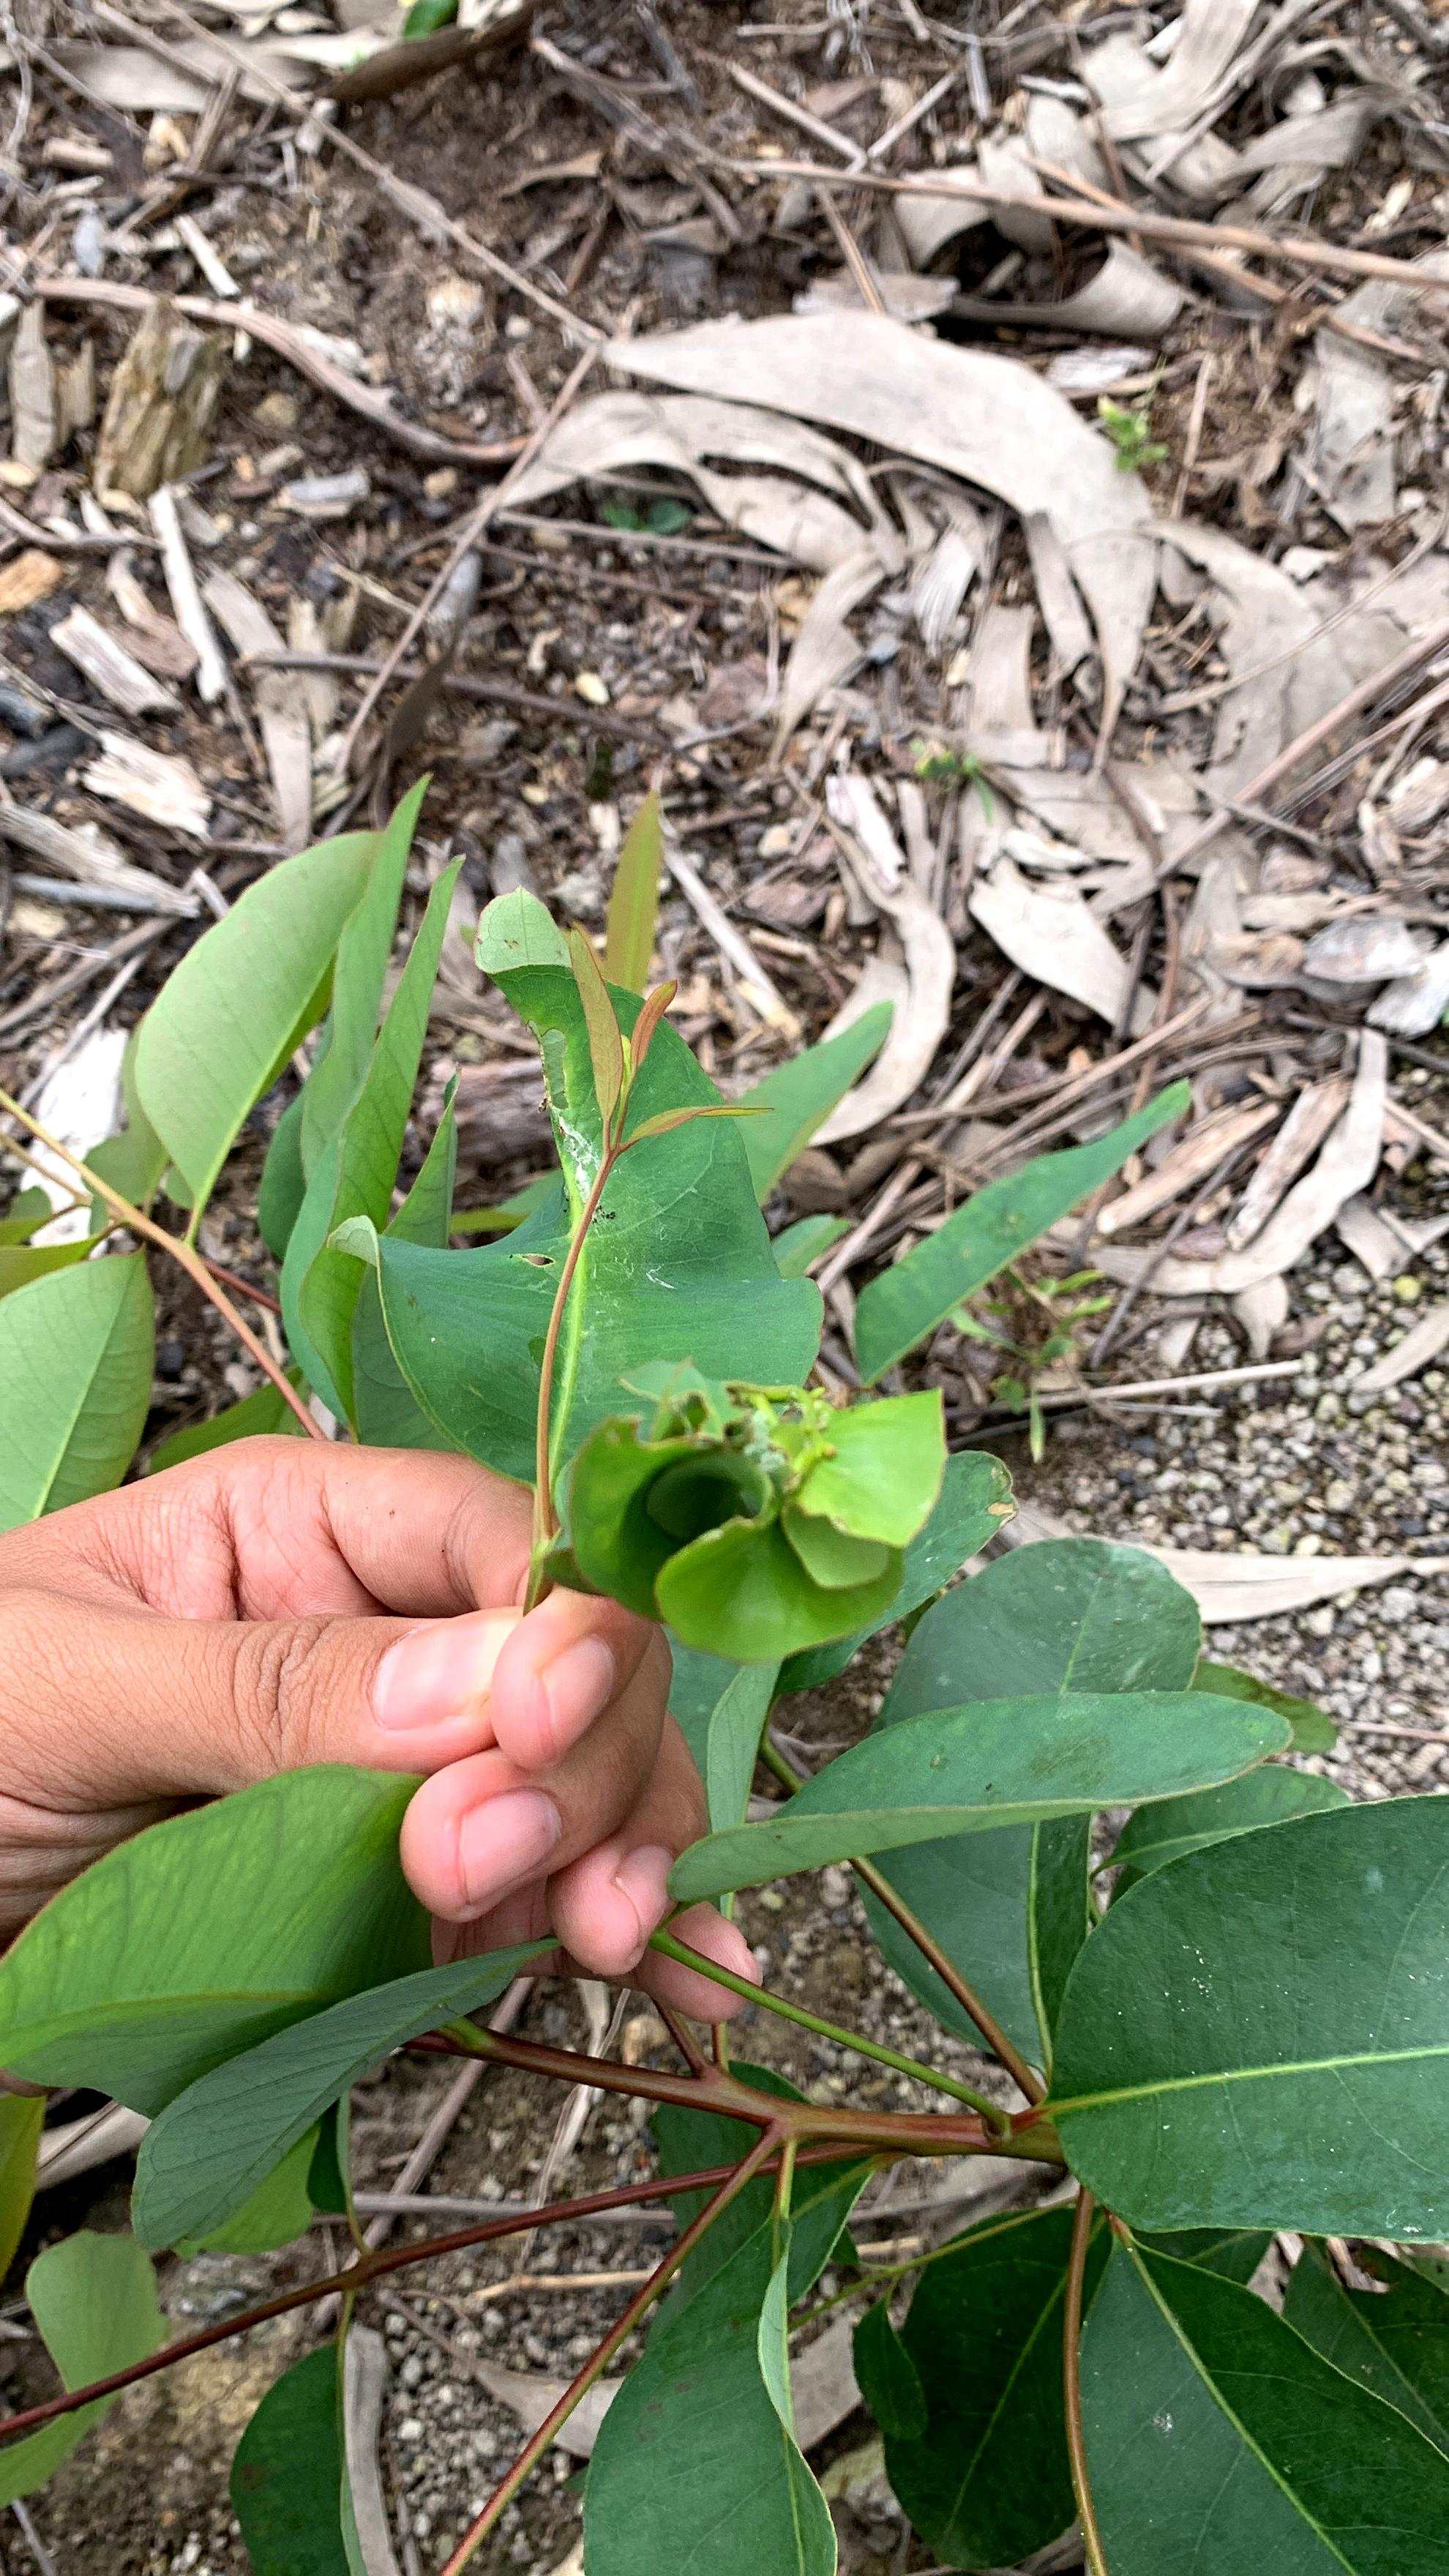Leaf Roller - Leaf: (589, 1359, 980, 1668)
